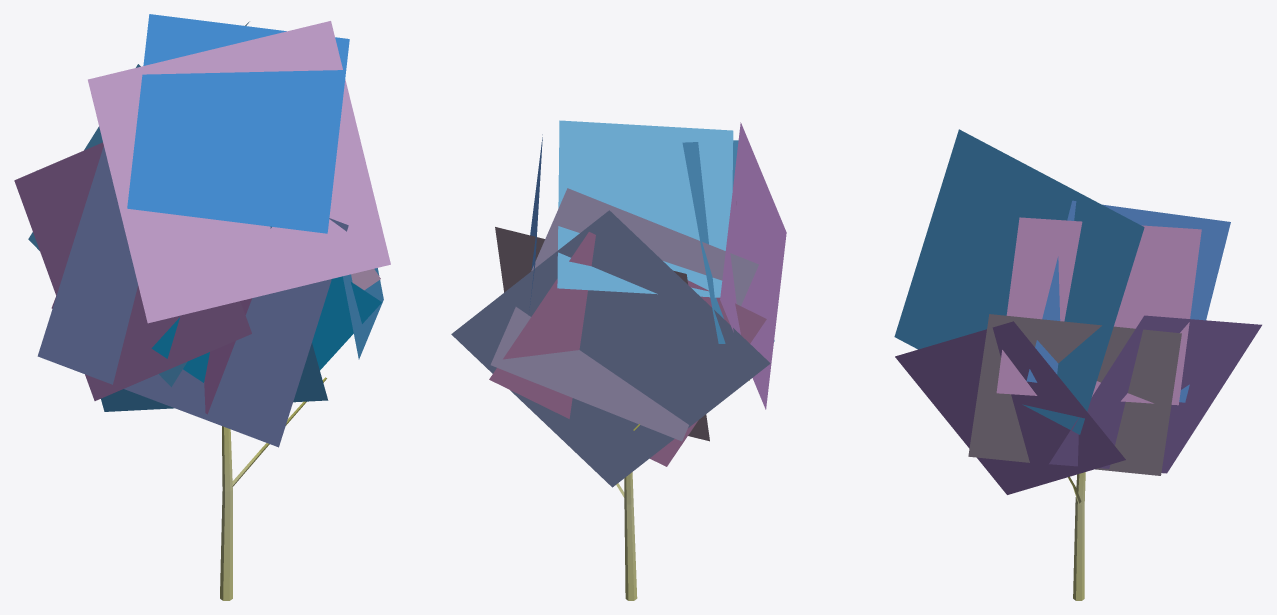
The model's file is tree_birch_1.glb.
The picture shows the model from 3 angles, left to right: view 1: azimuth 30°, elevation 25°; view 2: azimuth 150°, elevation 25°; view 3: azimuth 270°, elevation 25°; orthographic projection. The views are drawn at different scales.
Parts seen in each view (by area): view 1: tree_birch_1; view 2: tree_birch_1; view 3: tree_birch_1.
Boxes of the visible parts, x1,y1,x2,y2 form: tree_birch_1: (14, 14, 390, 600); tree_birch_1: (451, 120, 786, 600); tree_birch_1: (894, 129, 1261, 600).
Bounding box in the file's own units: 7.05 × 11.84 × 7.75.
